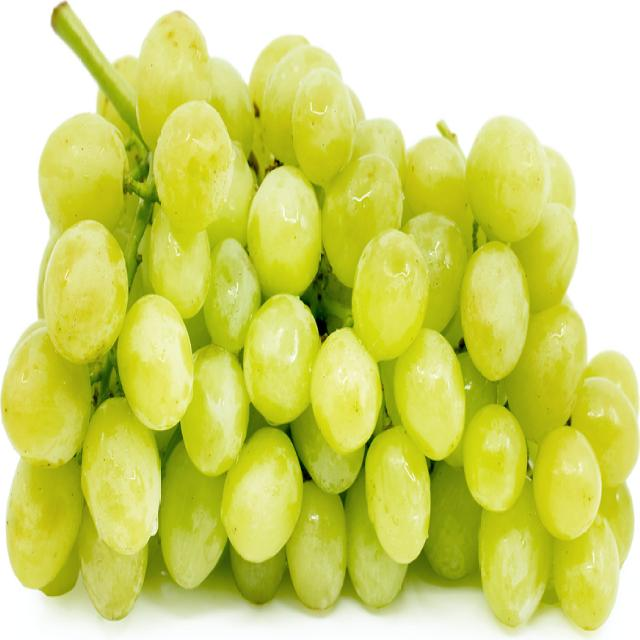Grapes: (5, 0, 640, 627), (451, 122, 640, 618), (241, 283, 432, 613), (147, 99, 244, 252)
